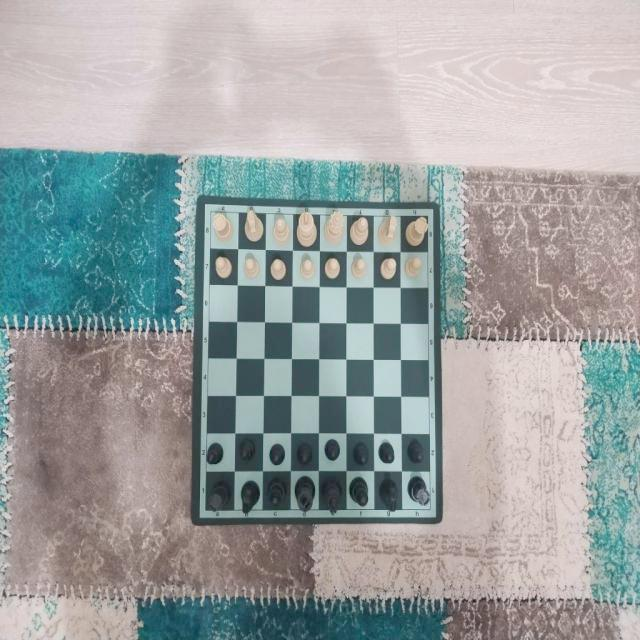chess-table-corners: (200, 197, 215, 218), (196, 503, 211, 523), (427, 503, 440, 522), (425, 204, 437, 220)
